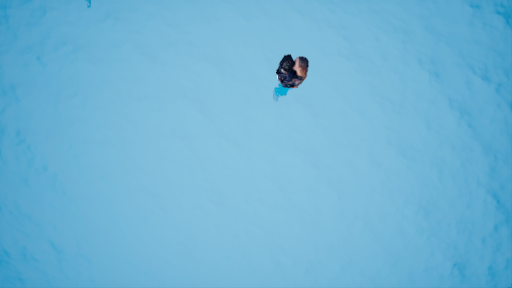person: (268, 48, 315, 103)
